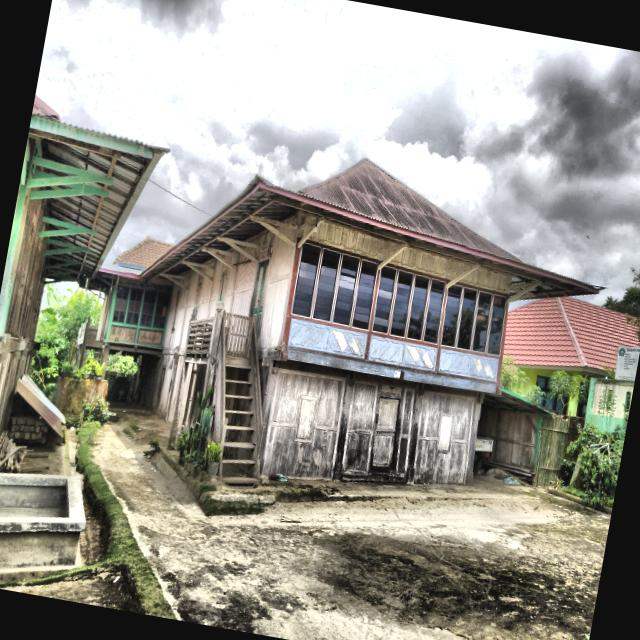door: (370, 396, 400, 467)
ornamen: (287, 318, 367, 359), (368, 334, 437, 371), (438, 348, 498, 381), (185, 316, 214, 353)
roof: (90, 158, 607, 299)
stair: (214, 309, 267, 484)
wall: (281, 222, 399, 361), (367, 247, 469, 374), (261, 367, 346, 480), (437, 268, 512, 383), (341, 379, 415, 483), (412, 389, 474, 485)
window: (292, 243, 320, 317), (312, 248, 340, 321), (332, 254, 359, 325), (352, 259, 377, 330), (372, 266, 396, 333), (390, 270, 413, 336), (407, 274, 429, 340), (423, 279, 445, 343), (441, 285, 462, 347), (456, 288, 477, 350), (472, 291, 492, 352), (487, 295, 506, 355), (296, 398, 316, 439), (125, 287, 143, 325), (111, 286, 129, 323), (139, 290, 156, 327), (152, 292, 169, 328), (438, 415, 452, 450)
